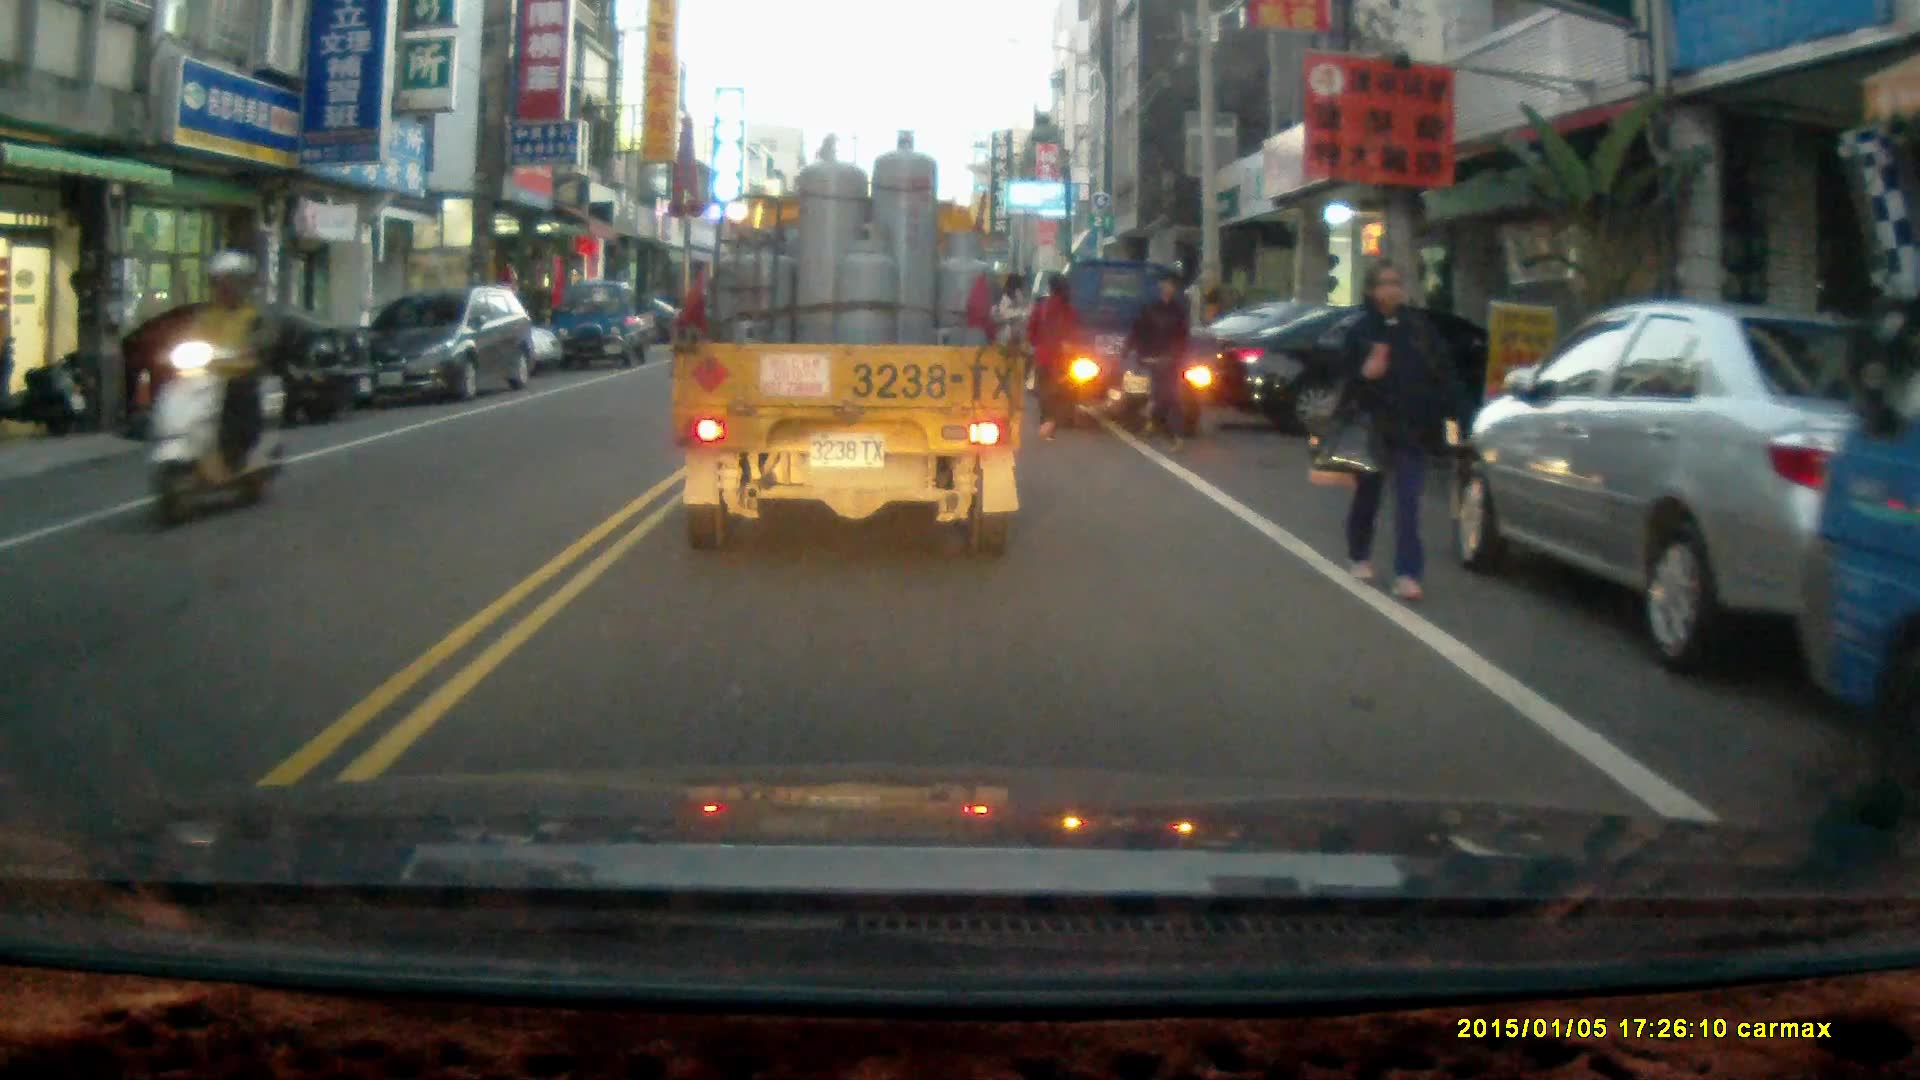pedestrian: (1331, 256, 1448, 599), (1123, 269, 1190, 453), (1020, 273, 1079, 442)
rider: (142, 249, 289, 531)
vehicle: (1447, 303, 1920, 674), (671, 128, 1032, 563), (1787, 309, 1920, 861), (1198, 298, 1531, 460), (21, 299, 375, 433), (1041, 260, 1230, 439), (357, 286, 538, 408), (554, 279, 657, 372)
